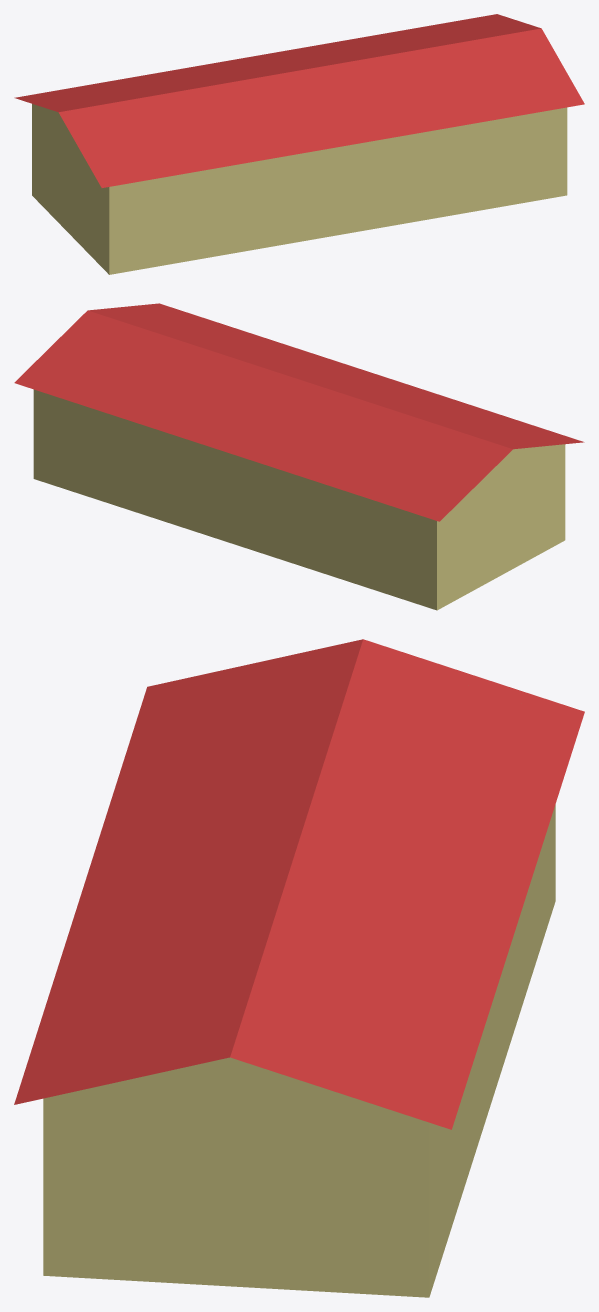
3 renders of one model, top to bottom at view 1: azimuth 30°, elevation 25°; view 2: azimuth 150°, elevation 25°; view 3: azimuth 270°, elevation 25°, orthographic. The views are drawn at different scales.
Bounding box in the file's own units: 30.09 × 16.39 × 7.6.
